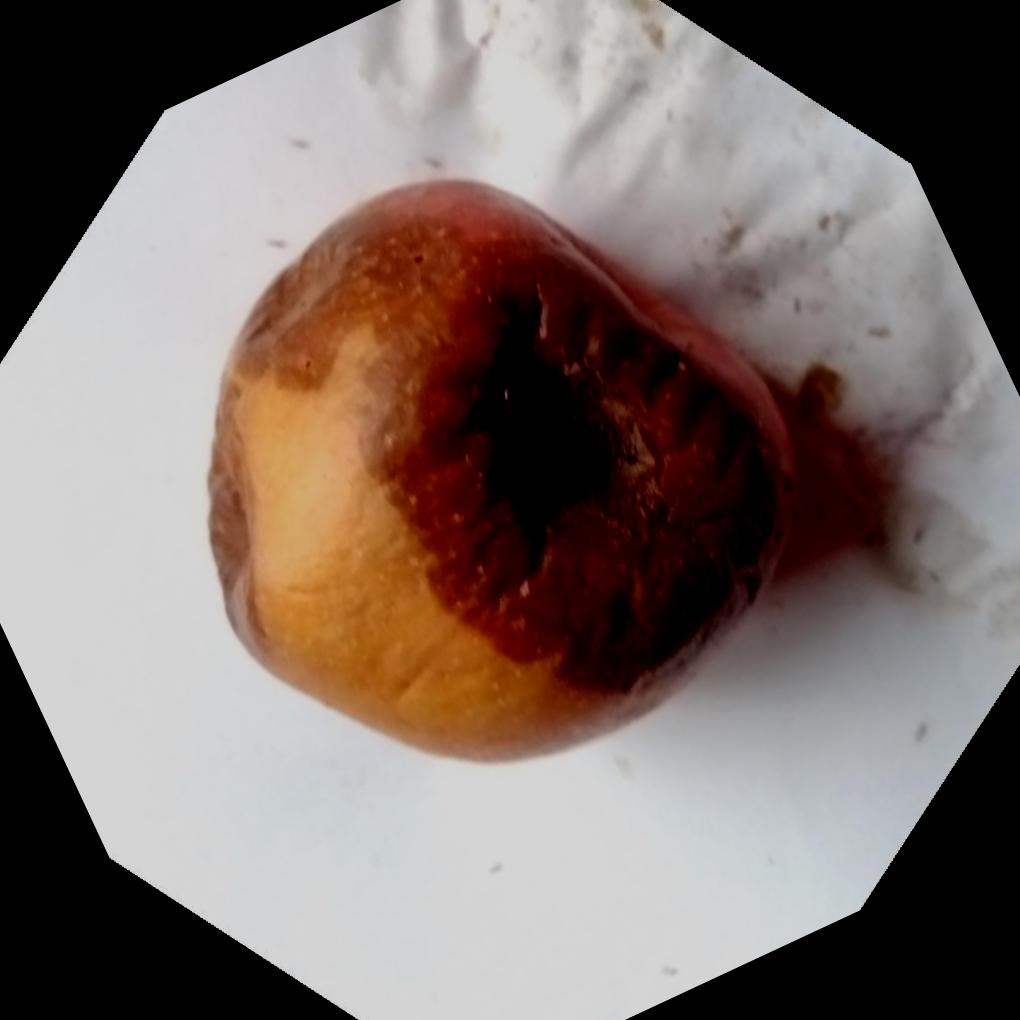FreshOrange: (207, 173, 805, 764)
